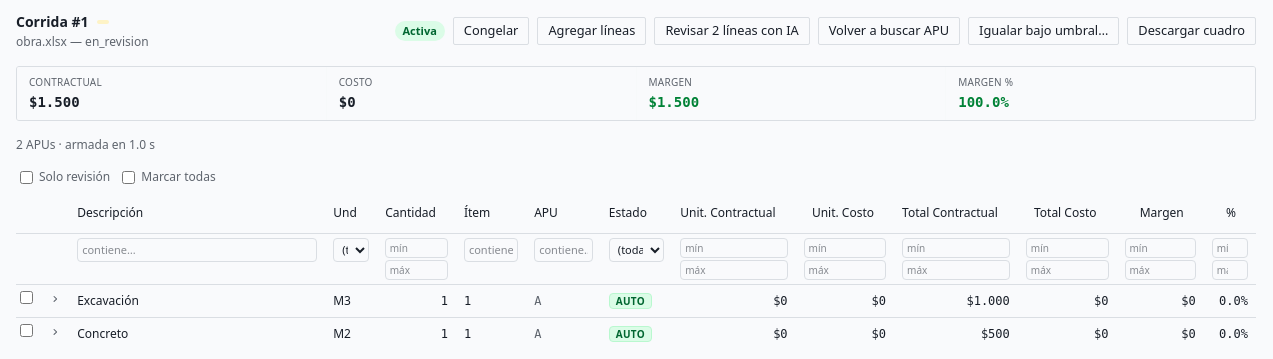
al filtrar por Und, los totales y el contador recalculan sobre lo filtrado
Expected: the text "Excavación" is shown, 77,292 -> 139,308
Expected: the text "Concreto" is shown, 77,324 -> 128,342
Select "M2" in the dropdown named "Filtrar Und": [351, 250] box 333,238 -> 369,262
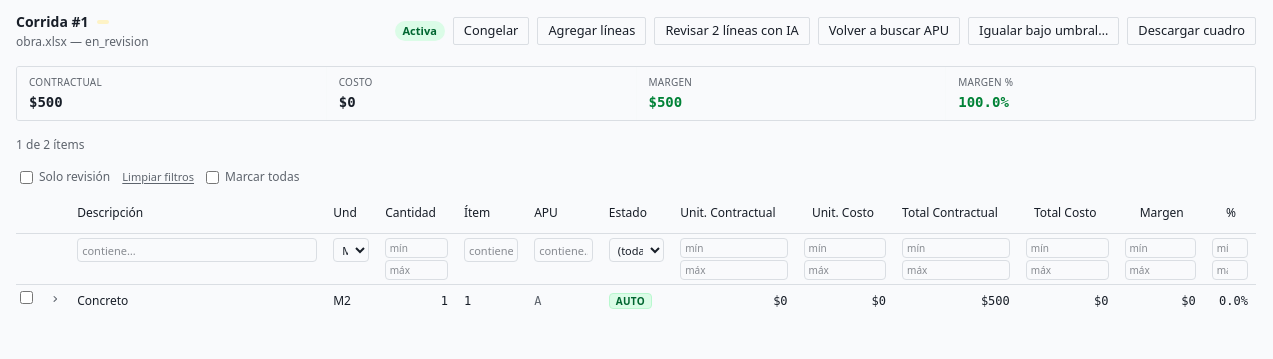
Expected: the button "Descargar cuadro" is enabled, 1127,17 -> 1256,45
Now the text "Excavación" is gone
Now the text "1 de 2 ítems" is shown, box 16,137 -> 84,153
